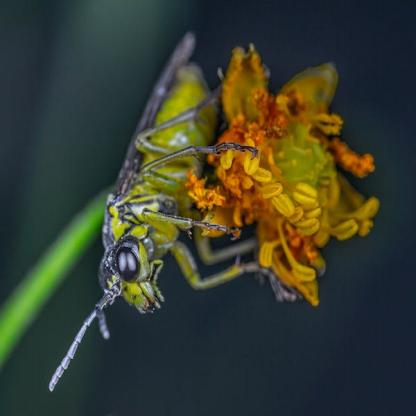sawfly: (41, 27, 310, 391)
